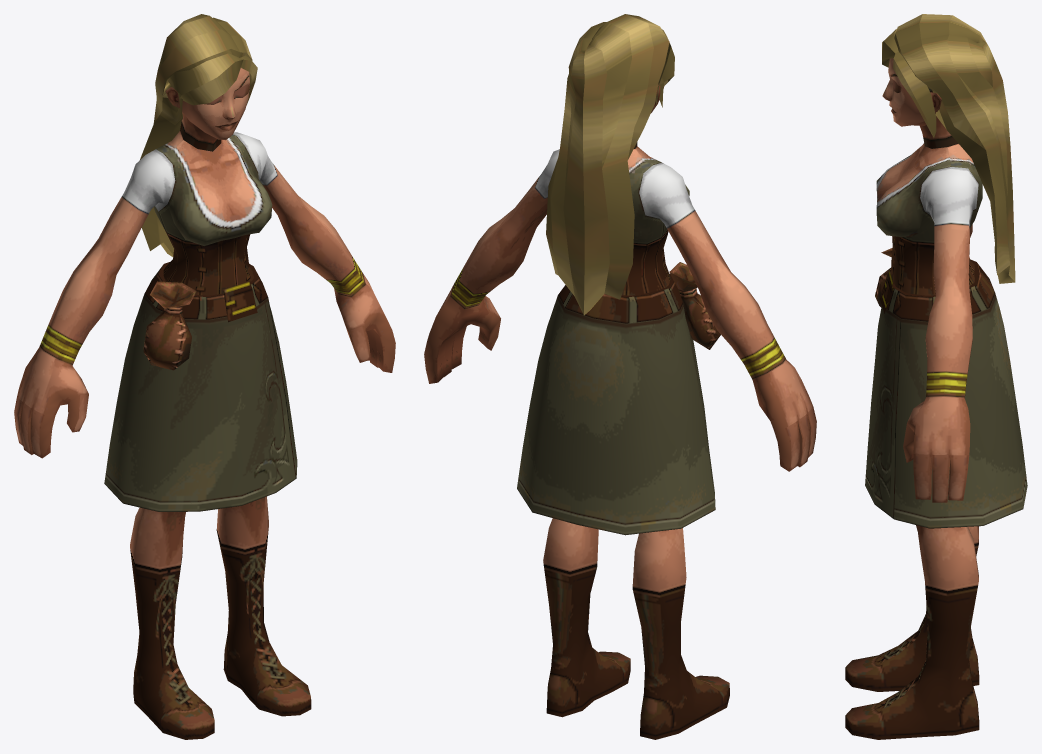
The model's file is npc_huf_town_01_384eb72a.glb.
3 renders of one model, left to right at view 1: azimuth 30°, elevation 25°; view 2: azimuth 150°, elevation 25°; view 3: azimuth 270°, elevation 25°, orthographic. The views are drawn at different scales.
Bounding box in the file's own units: 1.42 × 2.52 × 0.6067.
Materials: 1 (1 with a texture image).
